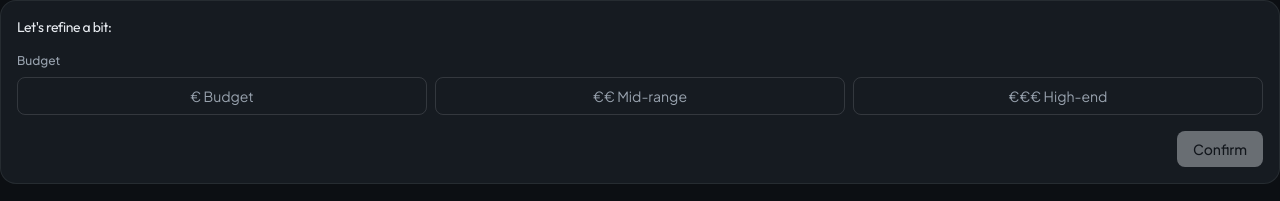
Scenario: QuickReplies › asks for the budget while the brief has no tier
This screenshot has width=1280, height=201.
expect the button "Confirm" is disabled: met, box [1177, 131, 1263, 167]
Click the radio button labelled "€€ Mid-range" at point(640, 96), box [435, 77, 845, 115]
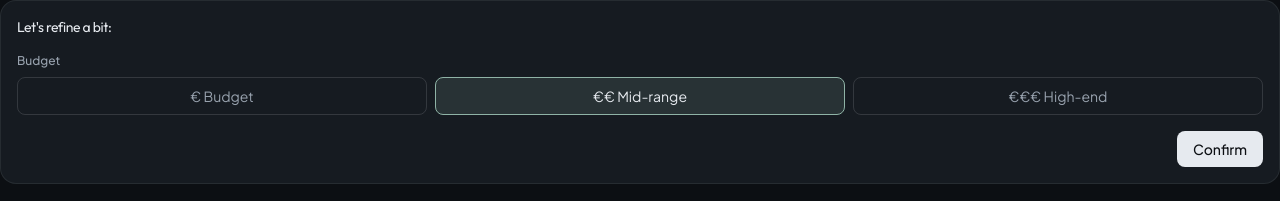
expect the button "Confirm" is enabled: met, box [1177, 131, 1263, 167]
